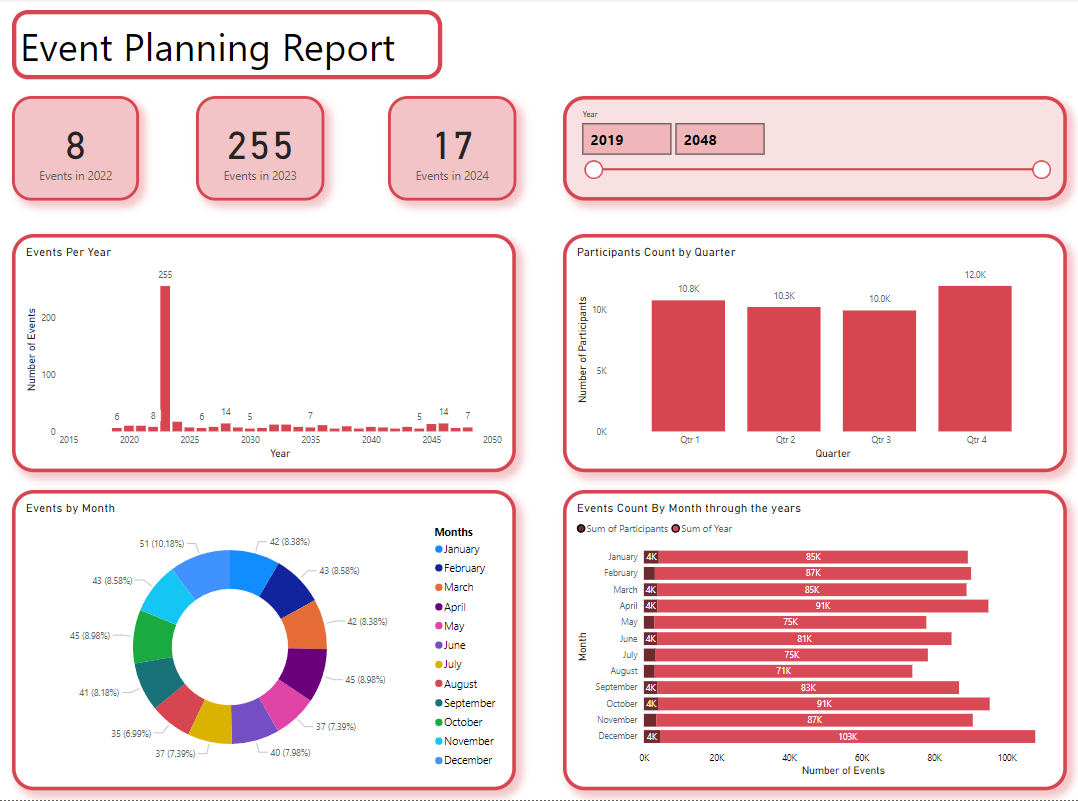

Layout of this report page (visuals, bound fields, positions):
{"tool":"powerbi","page":{"name":"Page 1","canvas":[1500,1111],"ordinal":0},"visuals":[{"type":"card","fields":{"Values":["_Measures.Event_2023"]},"box":[274,135.6,177.8,144.8],"z":0},{"type":"card","fields":{"Values":["_Measures.Event_2022"]},"box":[19.9,135.6,176.4,144.8],"z":1000},{"type":"card","fields":{"Values":["_Measures.Event_2024"]},"box":[540,135.6,177.8,144.8],"z":2000},{"type":"lineClusteredColumnComboChart","title":"Events Per Year","fields":{"Category":["event.Event Start Date.Variation.Date Hierarchy.Year"],"Y":["event.Count of Event Name YTD"]},"box":[19.9,326.5,697.9,330.5],"z":3000},{"type":"donutChart","title":"Events by Month","fields":{"Y":["_Measures.Event in Years"],"Category":["event.Event Start Date.Variation.Date Hierarchy.Month"]},"box":[19.9,682.1,697.9,416.1],"z":4000},{"type":"slicer","fields":{"Values":["event.Event Start Date.Variation.Date Hierarchy.Year"]},"box":[782.3,135.6,697.9,144.8],"z":5000},{"type":"lineClusteredColumnComboChart","title":"Participants Count by Quarter","fields":{"Y":["Sum(event.Participants)"],"Category":["event.Event Start Date.Variation.Date Hierarchy.Quarter"]},"box":[782.3,326.5,697.9,330.5],"z":6000},{"type":"barChart","title":"Events Count By Month through the years","fields":{"Category":["event.Event Start Date.Variation.Date Hierarchy.Month"],"Y":["Sum(event.Participants)","Sum(event.Year)"]},"box":[782.3,682.1,697.9,416.1],"z":7000},{"type":"textbox","box":[19.4,16.6,595.7,95.6],"z":7001}]}

Visuals, with their boxes in screenshot pixels (x1, y1, x2, y2), scaled from the page's 1500x1111 canvas onto the 1078x801 screenshot:
card - _Measures.Event_2023: select_region(197, 98, 325, 202)
card - _Measures.Event_2022: select_region(14, 98, 141, 202)
card - _Measures.Event_2024: select_region(388, 98, 516, 202)
"Events Per Year" lineClusteredColumnComboChart: select_region(14, 235, 516, 474)
"Events by Month" donutChart: select_region(14, 492, 516, 792)
slicer - event.Event Start Date.Variation.Date Hierarchy.Year: select_region(562, 98, 1064, 202)
"Participants Count by Quarter" lineClusteredColumnComboChart: select_region(562, 235, 1064, 474)
"Events Count By Month through the years" barChart: select_region(562, 492, 1064, 792)
textbox: select_region(14, 12, 442, 81)
